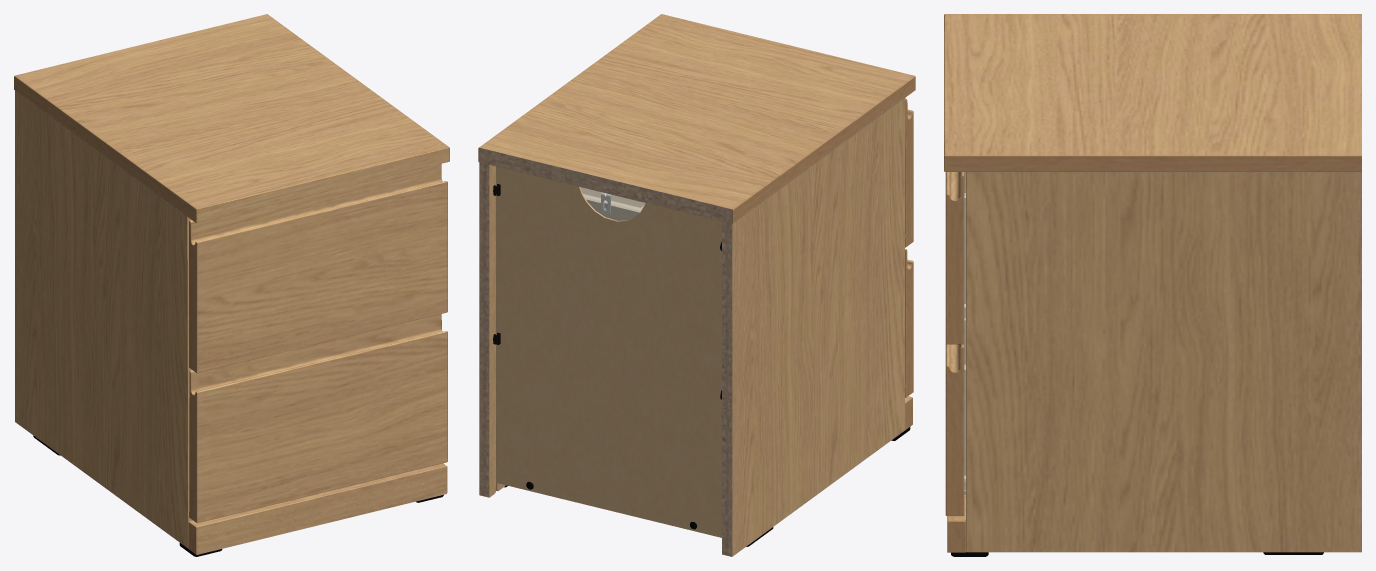
File: storklinta_komoda_2_szuflady_20631413.glb
3 views of the same model, side by side, from view 1: azimuth 30°, elevation 25°; view 2: azimuth 150°, elevation 25°; view 3: azimuth 270°, elevation 25° (orthographic). The views are drawn at different scales.
Visible parts, largest first — view 1: storklinta_komoda_2_szuflady_20631413; view 2: storklinta_komoda_2_szuflady_20631413; view 3: storklinta_komoda_2_szuflady_20631413.
Boxes of the visible parts, x1,y1,x2,y2 form: storklinta_komoda_2_szuflady_20631413: (14, 14, 449, 556); storklinta_komoda_2_szuflady_20631413: (478, 14, 915, 556); storklinta_komoda_2_szuflady_20631413: (944, 14, 1361, 556).
Bounding box in the file's own units: 0.399 × 0.5275 × 0.496.
Materials: 1 (1 with a texture image).
